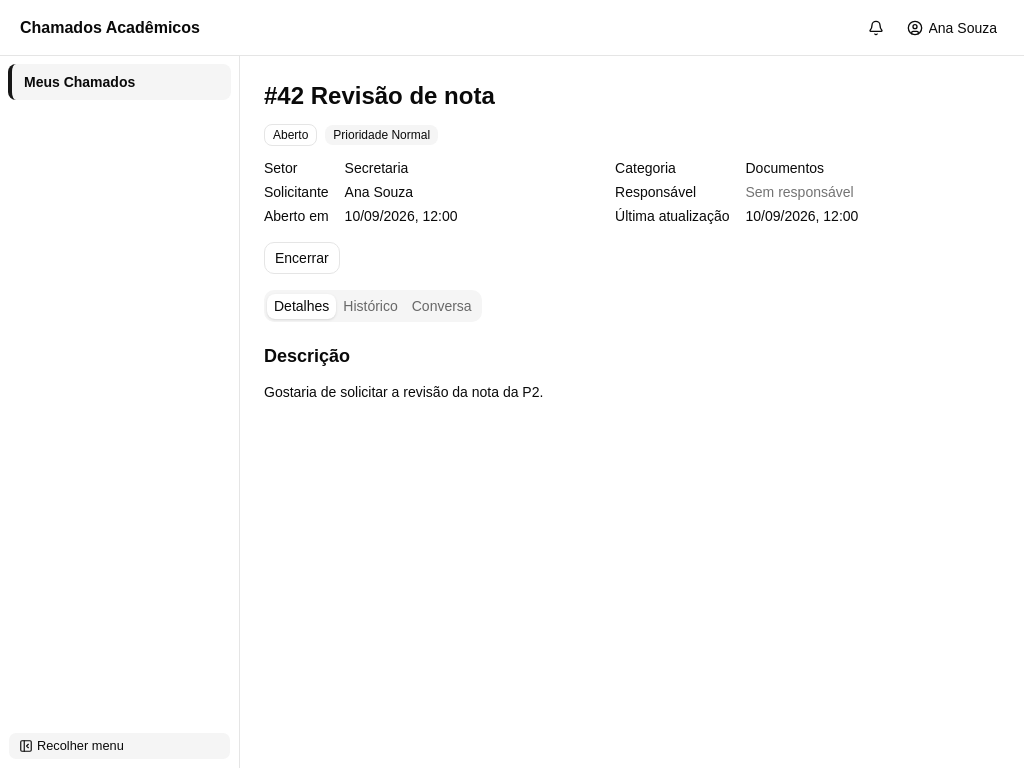
Test case: TicketDetailPage (Tela 5, US1.3, BR9.4) › shows the history and the passages in the second tab (AC1.3.6, AC2.4.4)
Check: the heading "#42 Revisão de nota" is shown, box [264, 82, 495, 109]
Click the tab "Histórico".
click(371, 306)  # box [336, 294, 405, 318]
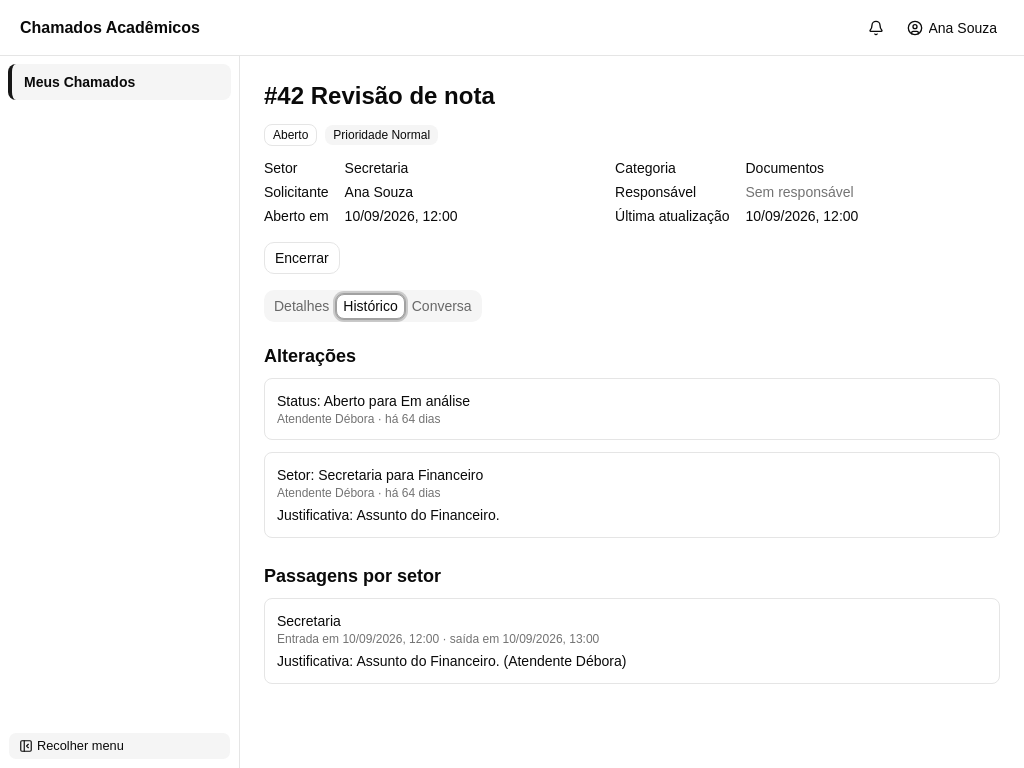
Check: the text "Status: Aberto para Em análise" is shown, box [277, 393, 470, 409]
Check: the text "Setor: Secretaria para Financeiro" is shown, box [277, 467, 483, 483]
Check: the text "Justificativa: Assunto do Financeiro." is shown, box [277, 507, 500, 523]
